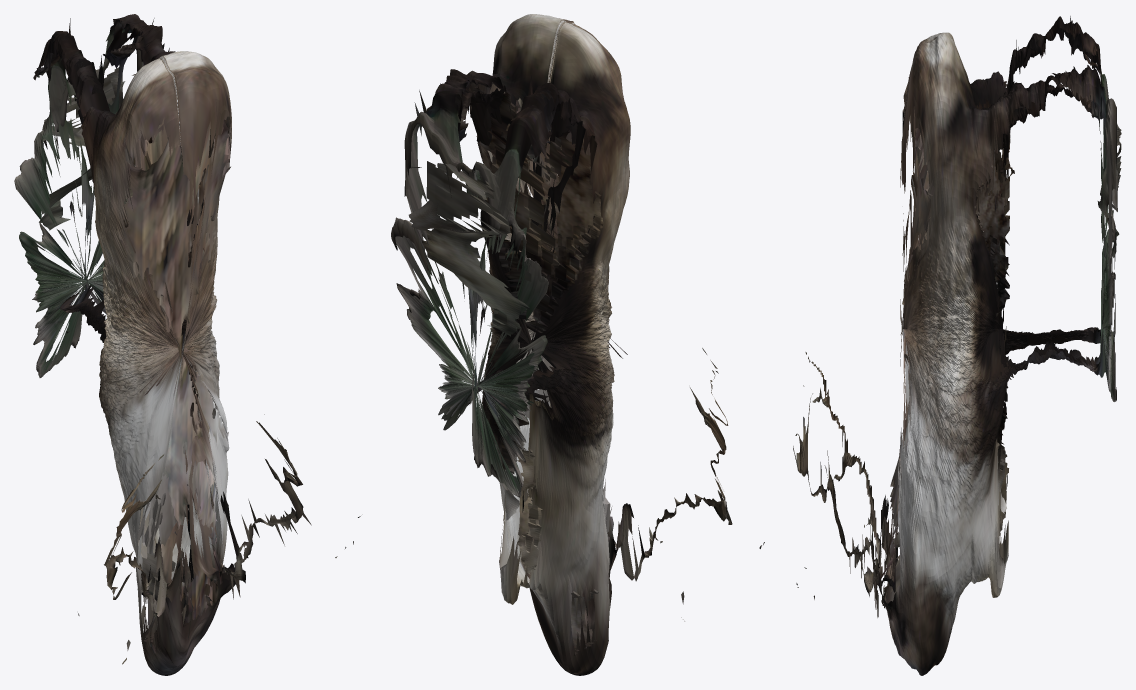
Rendered from snap12_mesh.glb.
3 renders of one model, left to right at view 1: azimuth 30°, elevation 25°; view 2: azimuth 150°, elevation 25°; view 3: azimuth 270°, elevation 25°, orthographic. The views are drawn at different scales.
Visible parts, largest first — view 1: ipn, fill; view 2: ipn, fill; view 3: ipn, fill.
Boxes of the visible parts, x1,y1,x2,y2 form: ipn: [14, 14, 360, 675]; fill: [39, 20, 231, 653]; ipn: [391, 14, 764, 675]; fill: [408, 77, 623, 655]; ipn: [793, 16, 1116, 675]; fill: [873, 67, 1121, 608].
Bounding box in the file's own units: 0.8488 × 1.83 × 0.8461.
Materials: 2 (1 with a texture image).
